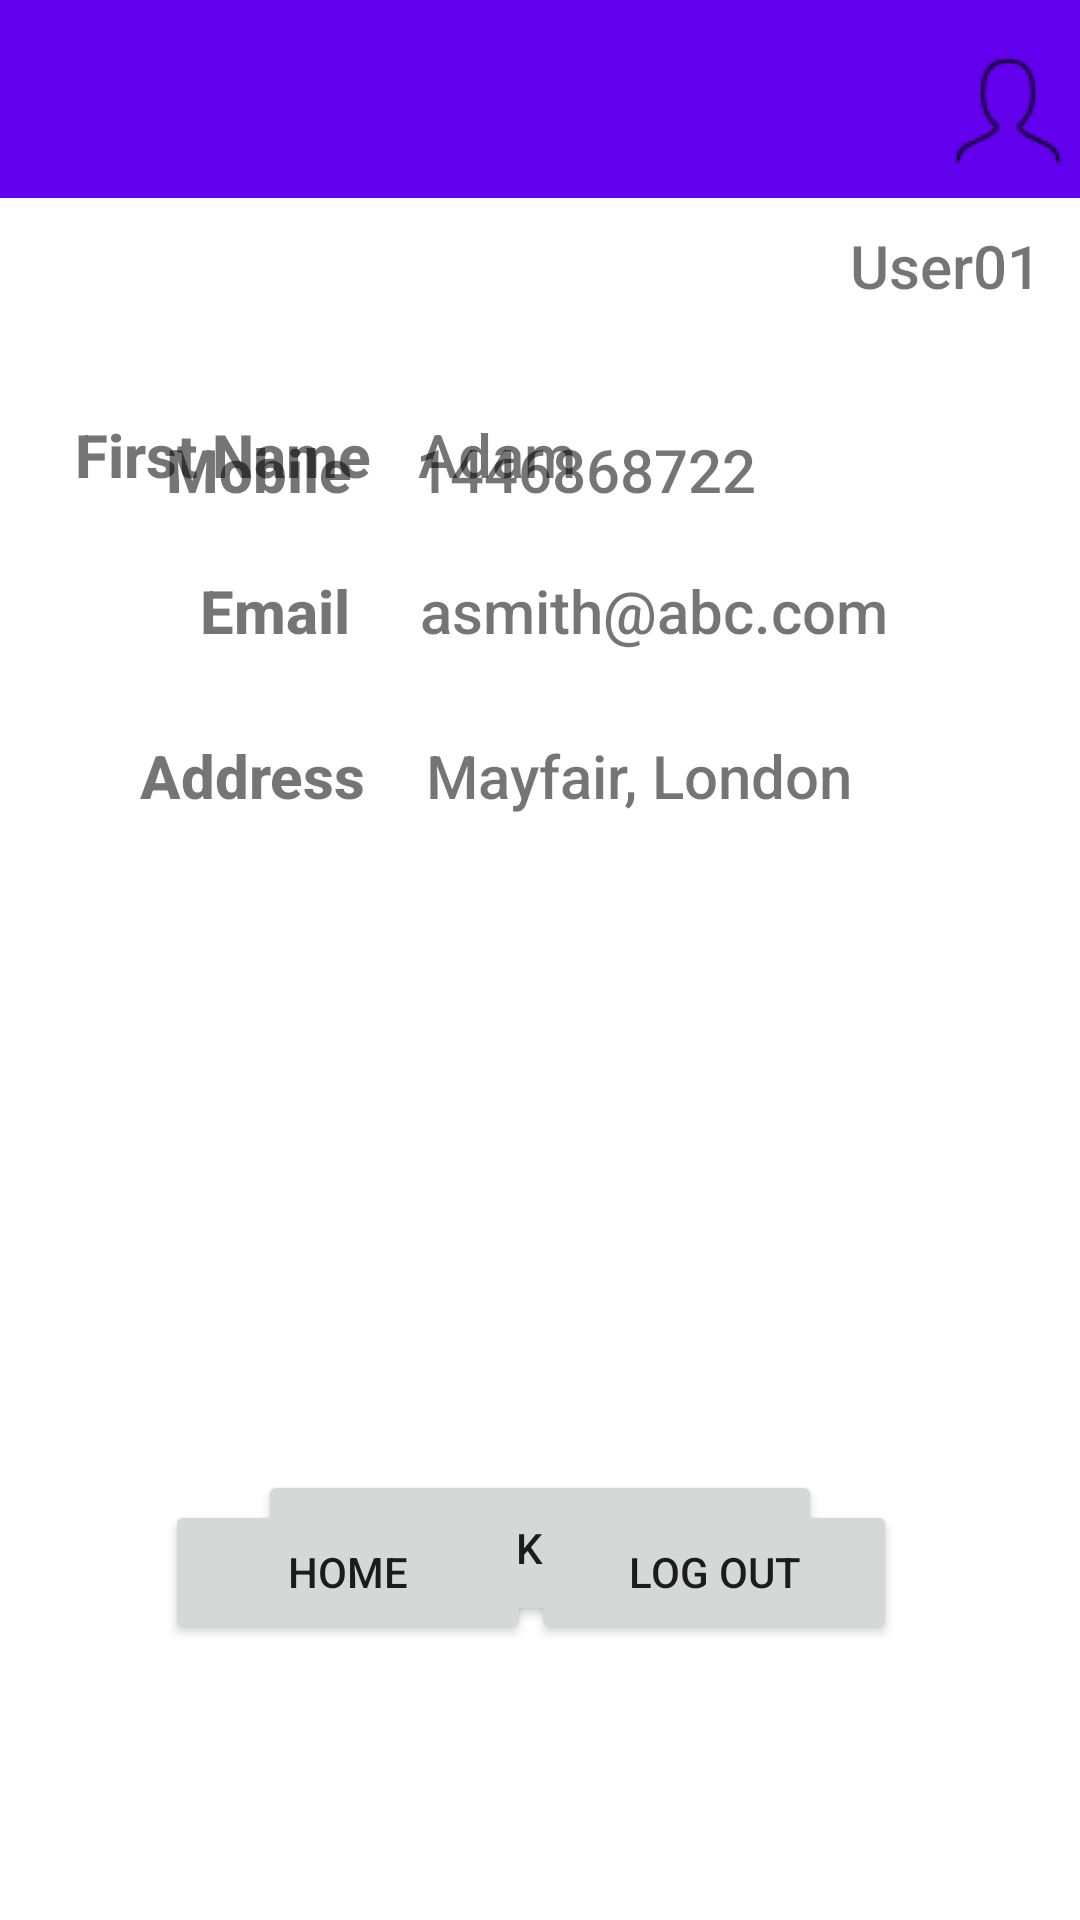

Where to tap for icons on this 1080 × 1920 app screen, as [x,y]:
usericon: [1008,110]
